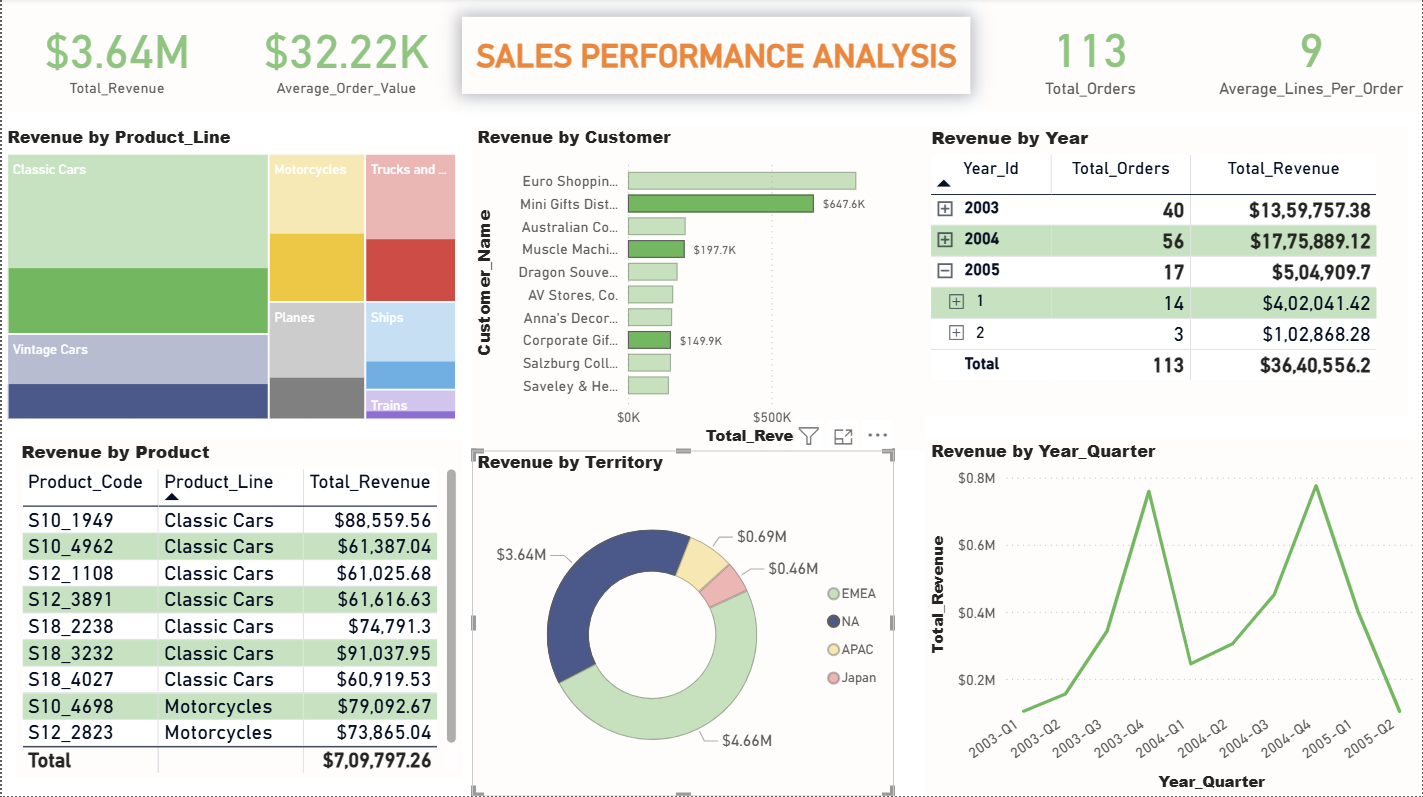

This screenshot's page, from the dashboard's own definition file:
{"tool":"powerbi","page":{"name":"Page 1","canvas":[1280,720],"ordinal":0},"visuals":[{"type":"card","fields":{"Values":["_Measure.Average_Lines_Per_Order"]},"box":[1081,0,199.3,102.7],"z":0},{"type":"card","fields":{"Values":["_Measure.Total_Revenue"]},"box":[0,0,207.9,102.7],"z":1000},{"type":"card","fields":{"Values":["_Measure.Total_Orders"]},"box":[882.9,0,198.1,102.7],"z":2000},{"type":"card","fields":{"Values":["_Measure.Average_Order_Value"]},"box":[207.9,0,206.7,102.7],"z":3000},{"type":"clusteredBarChart","title":"Revenue by Customer","fields":{"Y":["_Measure.Total_Revenue"],"Category":["Sales.Customer_Name"]},"box":[424.3,114.9,408.4,293.5],"z":5000},{"type":"pivotTable","title":"Revenue by Year","fields":{"Rows":["Sales.Year_Id","Sales.Quarter_Id","Sales.Month_Id"],"Values":["_Measure.Total_Orders","_Measure.Total_Revenue"]},"box":[832.7,114.9,435.3,261.7],"z":6000},{"type":"lineChart","title":"Revenue by Year_Quarter","fields":{"Category":["Sales.Year_Quarter"],"Y":["_Measure.Total_Revenue"]},"box":[832.7,397.4,447.6,322.8],"z":7000},{"type":"treemap","title":"Revenue by Product_Line","fields":{"Group":["Sales.Product_Line"],"Values":["_Measure.Total_Revenue"]},"box":[0,114.9,414.5,270.2],"z":8000},{"type":"tableEx","title":"Revenue by Product","fields":{"Values":["Sales.Product_Code","Sales.Product_Line","_Measure.Total_Revenue"]},"box":[12.2,397.4,402.3,305.7],"z":9000},{"type":"donutChart","title":"Revenue by Territory","fields":{"Category":["Sales.Territory"],"Y":["_Measure.Total_Revenue"]},"box":[424.3,408.4,379.1,311.8],"z":10000},{"type":"textbox","box":[414.8,16.9,458.7,69.9],"z":11000}]}

Visuals, with their boxes in screenshot pixels (x1, y1, x2, y2), scaled from the page's 1280x720 canvas onto the 1423x797 screenshot:
card - _Measure.Average_Lines_Per_Order: [1202,0,1422,114]
card - _Measure.Total_Revenue: [0,0,231,114]
card - _Measure.Total_Orders: [982,0,1202,114]
card - _Measure.Average_Order_Value: [231,0,461,114]
"Revenue by Customer" clusteredBarChart: [472,127,926,452]
"Revenue by Year" pivotTable: [926,127,1410,417]
"Revenue by Year_Quarter" lineChart: [926,440,1422,796]
"Revenue by Product_Line" treemap: [0,127,461,426]
"Revenue by Product" tableEx: [14,440,461,778]
"Revenue by Territory" donutChart: [472,452,893,796]
textbox: [461,19,971,96]
